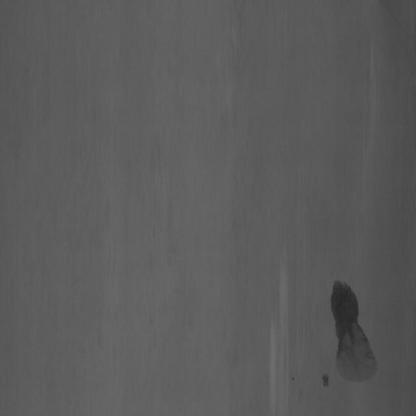oil_spot: (321, 274, 378, 396)
